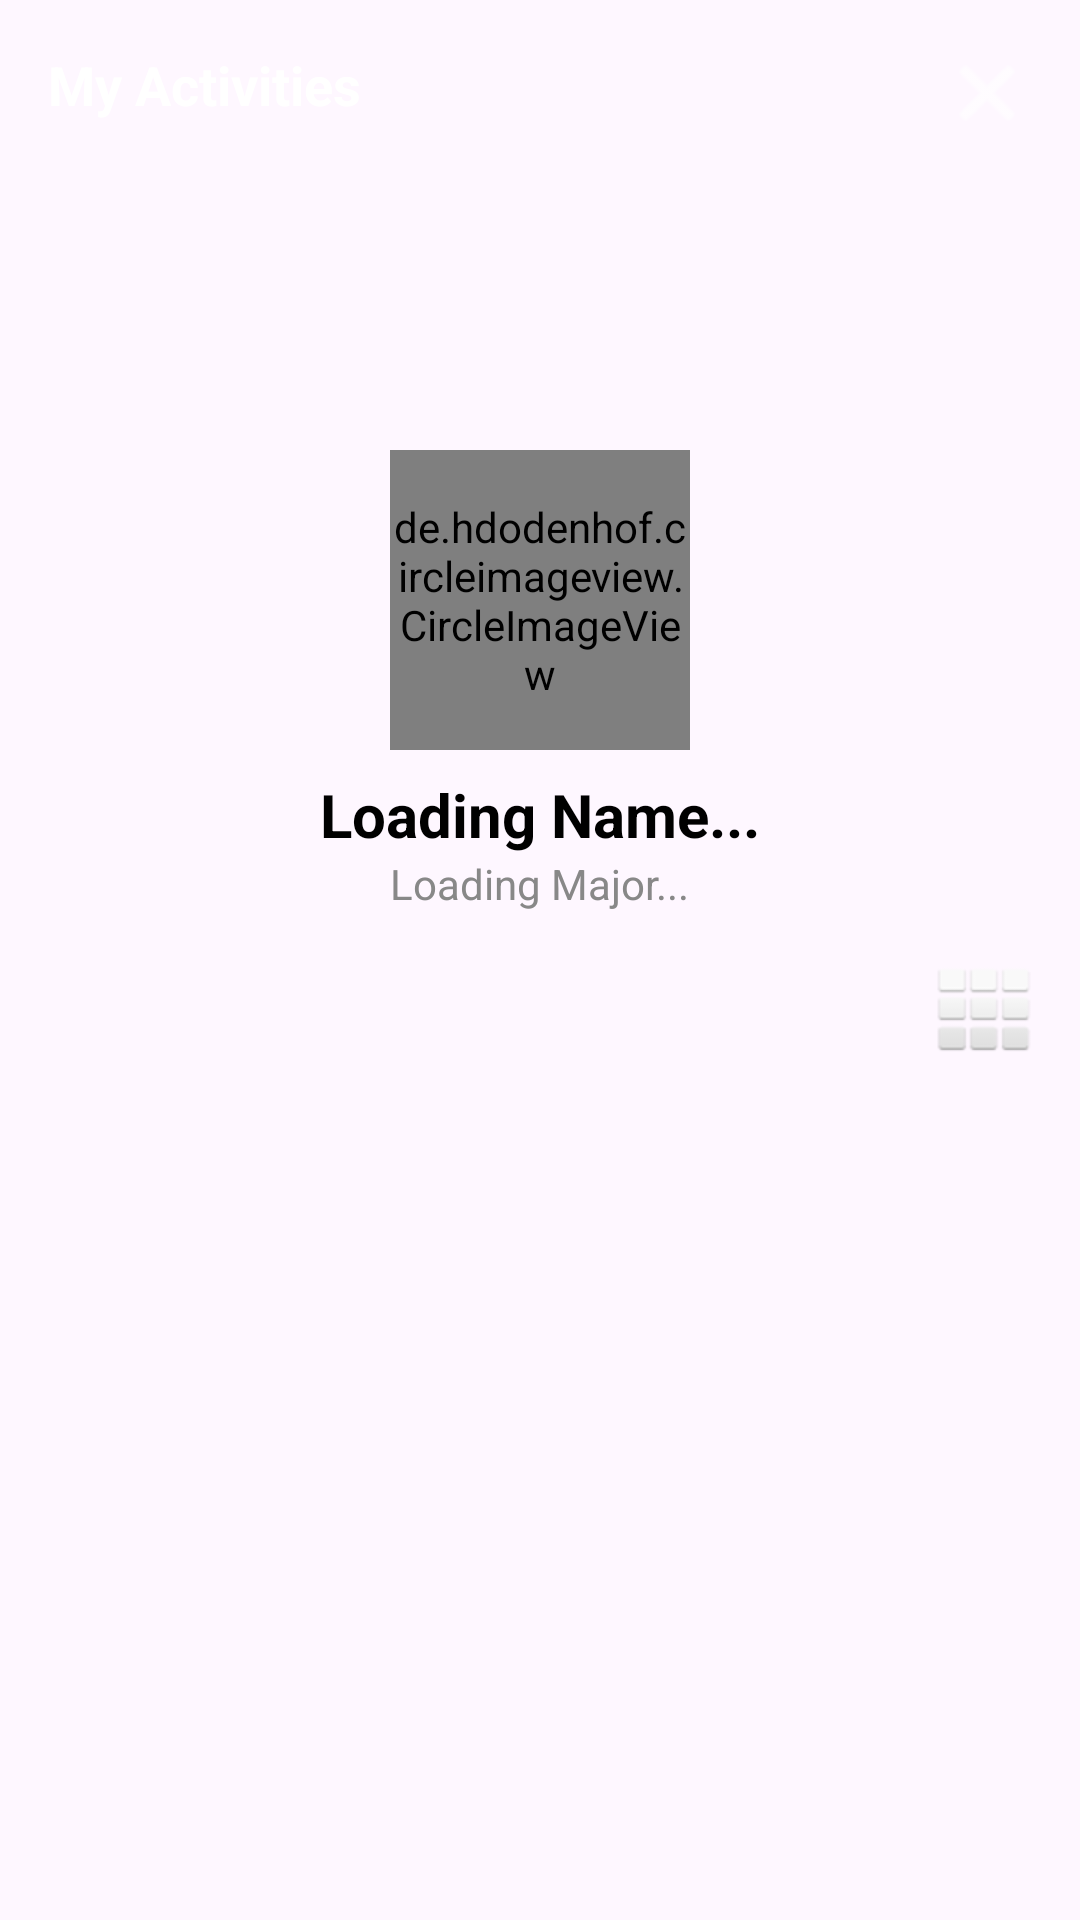

Icon click points for this 1080*1920 phone screenshot, format point (x, y):
dialer: point (983, 1019)
